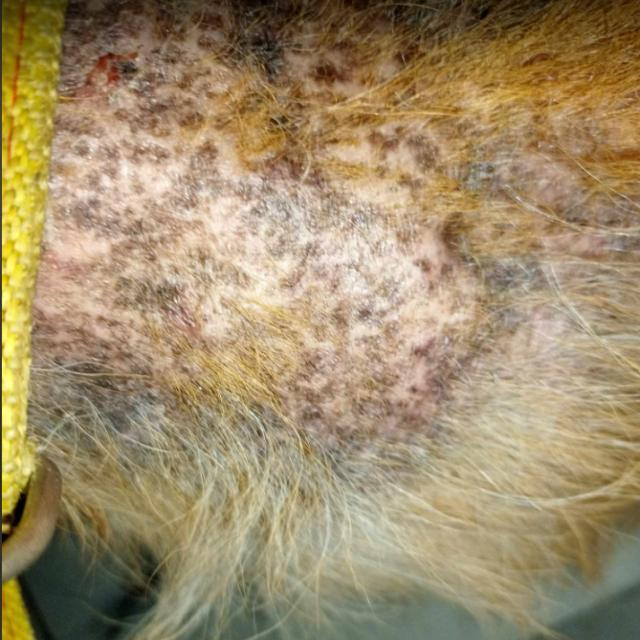demodicosis: (38, 60, 465, 443)
